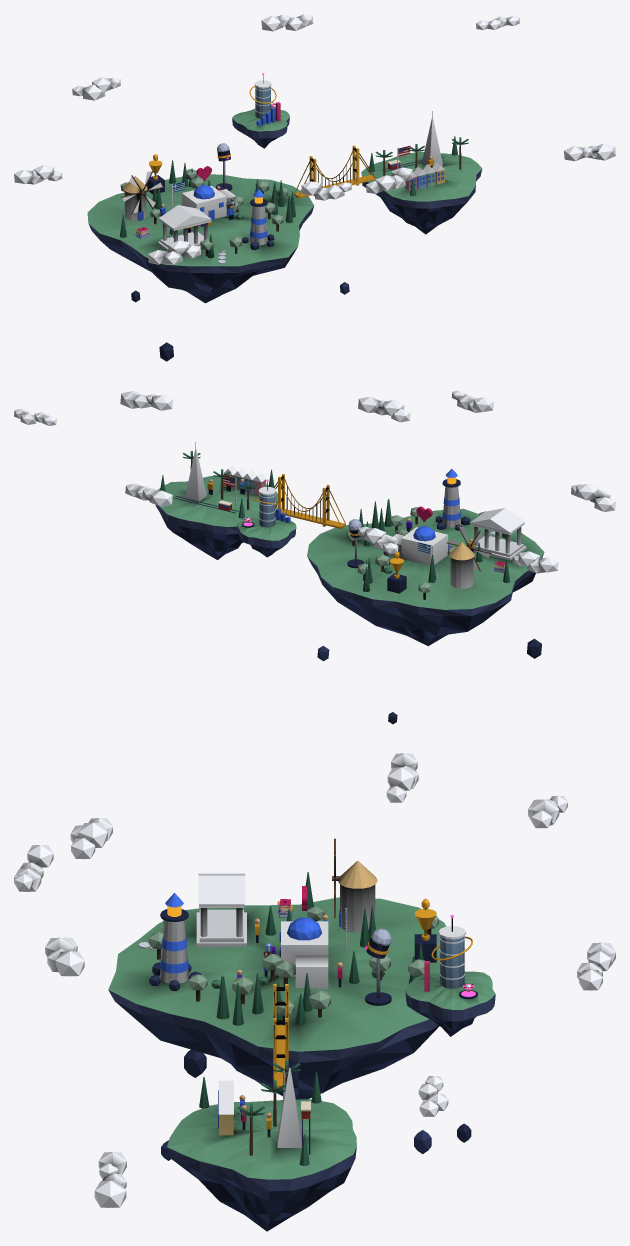
File: island.glb
3 renders of one model, top to bottom at view 1: azimuth 30°, elevation 25°; view 2: azimuth 150°, elevation 25°; view 3: azimuth 270°, elevation 25°, orthographic. The views are drawn at different scales.
Parts seen in each view (by area): view 1: ISLAND_main, ISLAND_sf, ISLAND_hq, Cube, pediment, Cone.005, Cylinder.076; view 2: ISLAND_main, ISLAND_sf, ISLAND_hq, Cube, pediment, Cylinder.076, Cone.005, Cylinder, Cube.023, Cone; view 3: ISLAND_main, ISLAND_sf, ISLAND_hq, pediment, Cylinder.076, Cube, Cone.005, Cube.023, Cylinder, Cone, Cube.001, Icosphere.060 (+3 smaller).
Boxes of the visible parts, left/top/right/bottom form: ISLAND_main: left=87, top=174, right=314, bottom=303; ISLAND_sf: left=361, top=151, right=482, bottom=234; ISLAND_hq: left=232, top=108, right=289, bottom=148; Cube: left=182, top=186, right=226, bottom=218; pediment: left=159, top=205, right=211, bottom=228; Cone.005: left=422, top=117, right=442, bottom=165; Cylinder.076: left=124, top=191, right=146, bottom=220; ISLAND_main: left=307, top=508, right=544, bottom=646; ISLAND_sf: left=155, top=474, right=277, bottom=559; ISLAND_hq: left=237, top=518, right=296, bottom=557; Cube: left=401, top=527, right=447, bottom=565; pediment: left=470, top=508, right=525, bottom=532; Cylinder.076: left=450, top=558, right=473, bottom=588; Cone.005: left=185, top=449, right=206, bottom=502; Cylinder: left=259, top=493, right=275, bottom=527; Cube.023: left=474, top=536, right=523, bottom=556; Cone: left=442, top=486, right=460, bottom=527; ISLAND_main: left=108, top=897, right=464, bottom=1099; ISLAND_sf: left=167, top=1099, right=356, bottom=1231; ISLAND_hq: left=405, top=971, right=495, bottom=1036; pediment: left=198, top=873, right=245, bottom=904; Cylinder.076: left=340, top=884, right=375, bottom=932; Cube: left=281, top=921, right=328, bottom=976; Cone.005: left=277, top=1067, right=301, bottom=1147; Cube.023: left=199, top=909, right=243, bottom=942; Cylinder: left=440, top=936, right=464, bottom=988; Cone: left=159, top=920, right=188, bottom=983; Cube.001: left=295, top=955, right=328, bottom=988; Icosphere.060: left=94, top=1180, right=126, bottom=1207.
Bounding box in the file's own units: 32.32 × 12.74 × 20.37.
